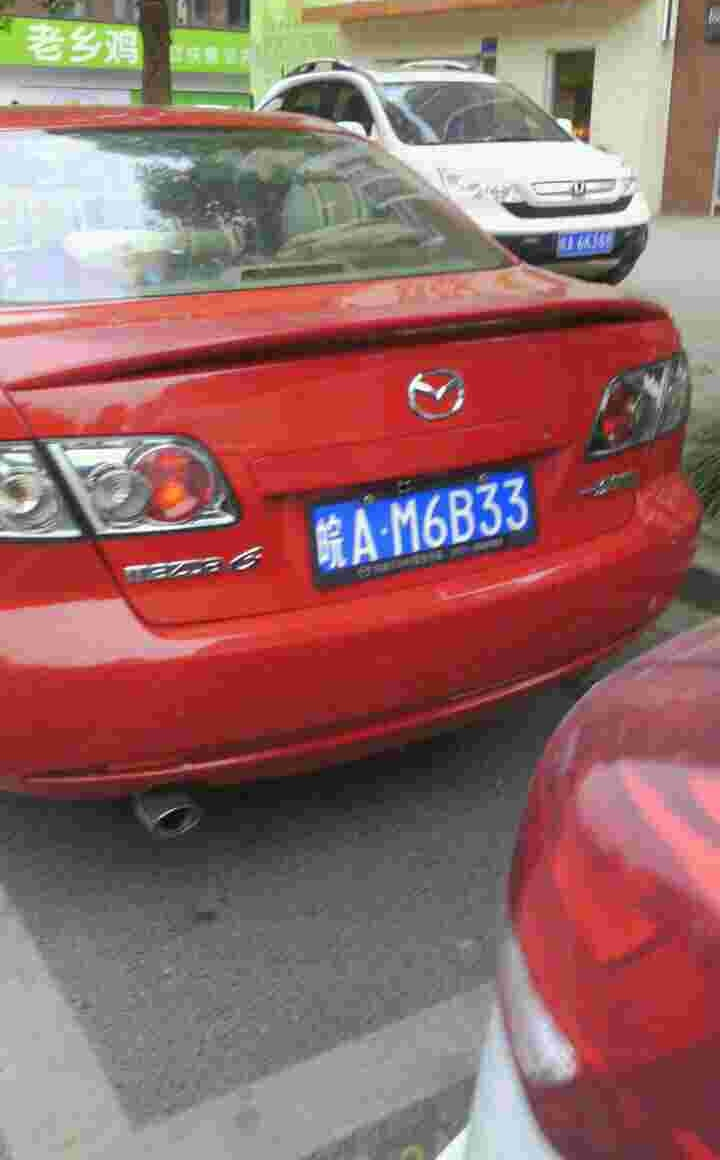plate: (316, 456, 544, 589)
